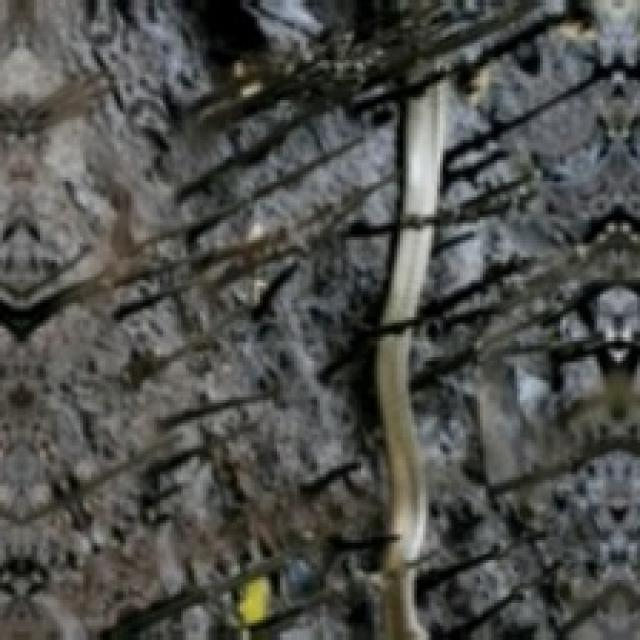king cobra: (375, 79, 449, 639)
